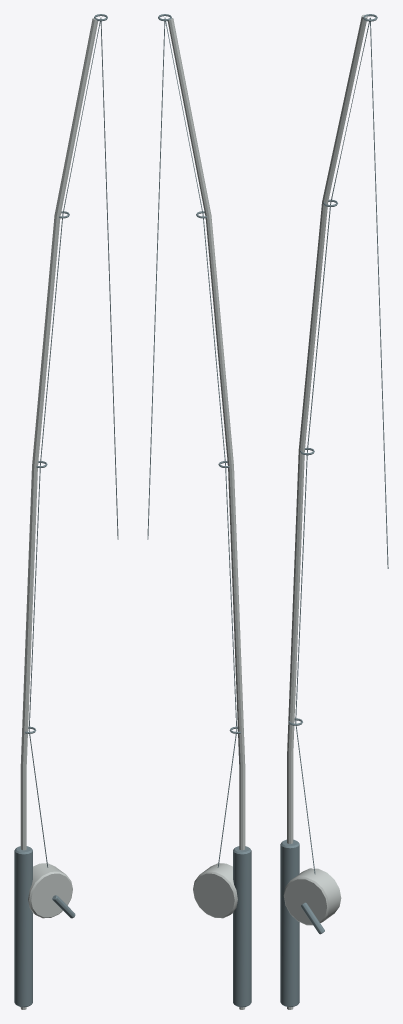
Rendered from fishing-rod.glb.
3 renders of one model, left to right at view 1: azimuth 30°, elevation 25°; view 2: azimuth 150°, elevation 25°; view 3: azimuth 330°, elevation 25°, orthographic. The views are drawn at different scales.
Visible parts, largest first — view 1: tapered_rod, rubber_grip, fishing_line, spool; view 2: tapered_rod, rubber_grip, fishing_line, spool; view 3: tapered_rod, rubber_grip, spool, fishing_line.
Boxes of the visible parts, x1=… form: tapered_rod: x1=20, y1=18, x2=98, y2=1009; rubber_grip: x1=14, y1=846, x2=32, y2=1007; fishing_line: x1=28, y1=17, x2=118, y2=867; spool: x1=28, y1=863, x2=72, y2=918; tapered_rod: x1=167, y1=18, x2=245, y2=1009; rubber_grip: x1=233, y1=846, x2=251, y2=1007; fishing_line: x1=147, y1=17, x2=237, y2=867; spool: x1=193, y1=863, x2=237, y2=918; tapered_rod: x1=287, y1=14, x2=367, y2=1009; rubber_grip: x1=280, y1=839, x2=299, y2=1006; spool: x1=283, y1=868, x2=341, y2=925; fishing_line: x1=295, y1=17, x2=388, y2=874.
Bounding box in the file's own units: 0.229 × 2.07 × 0.0662.
